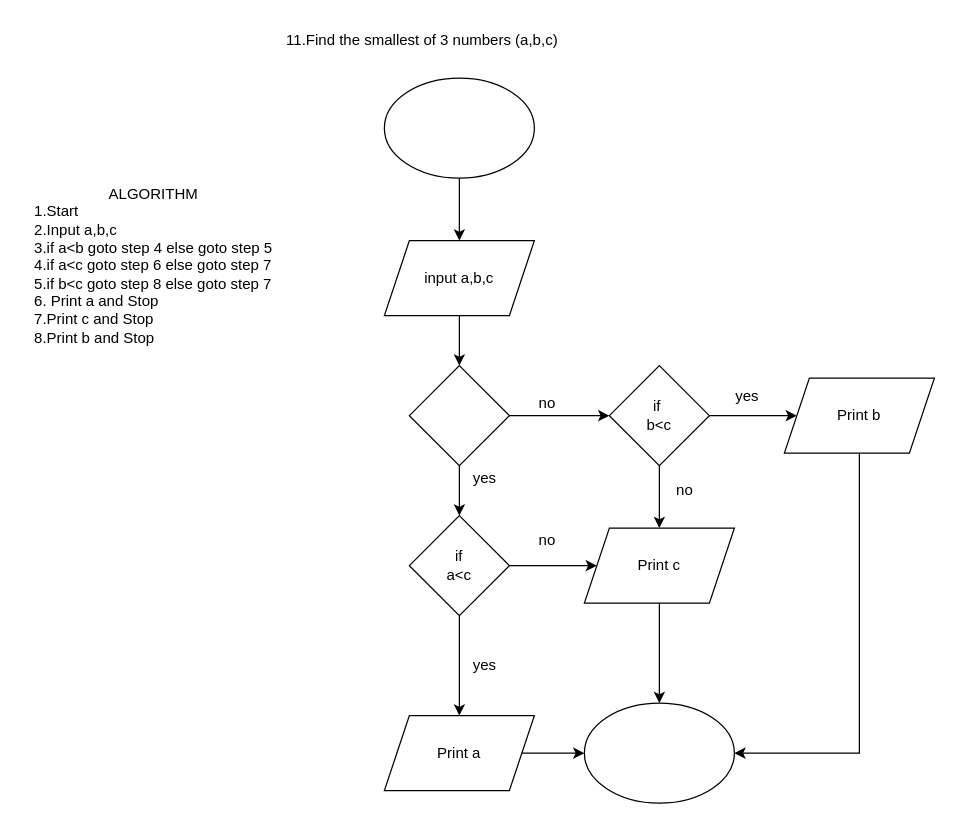
The diagram is 956 pixels wide and 825 high, and some of its shapes have lost their labels. Each missing label, with the box of its shape:
if a<b: (408, 364, 509, 466)
Start: (383, 77, 534, 178)
Stop: (583, 702, 734, 803)
